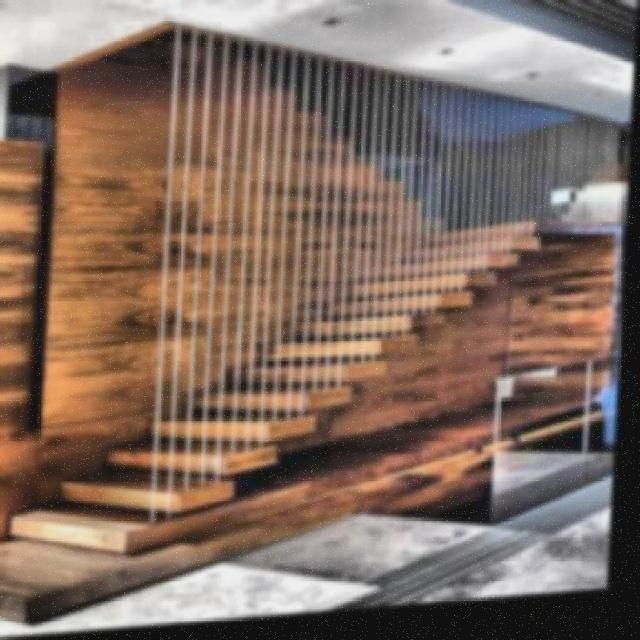stair: (17, 218, 610, 560)
